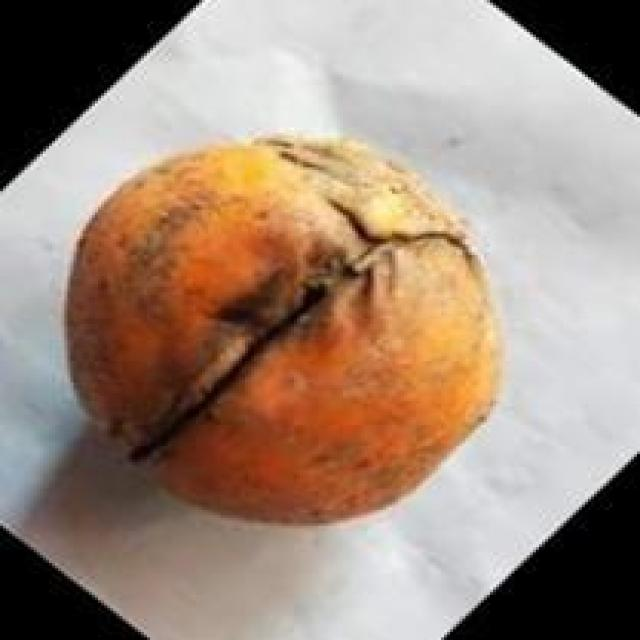damaged: (67, 135, 496, 520)
